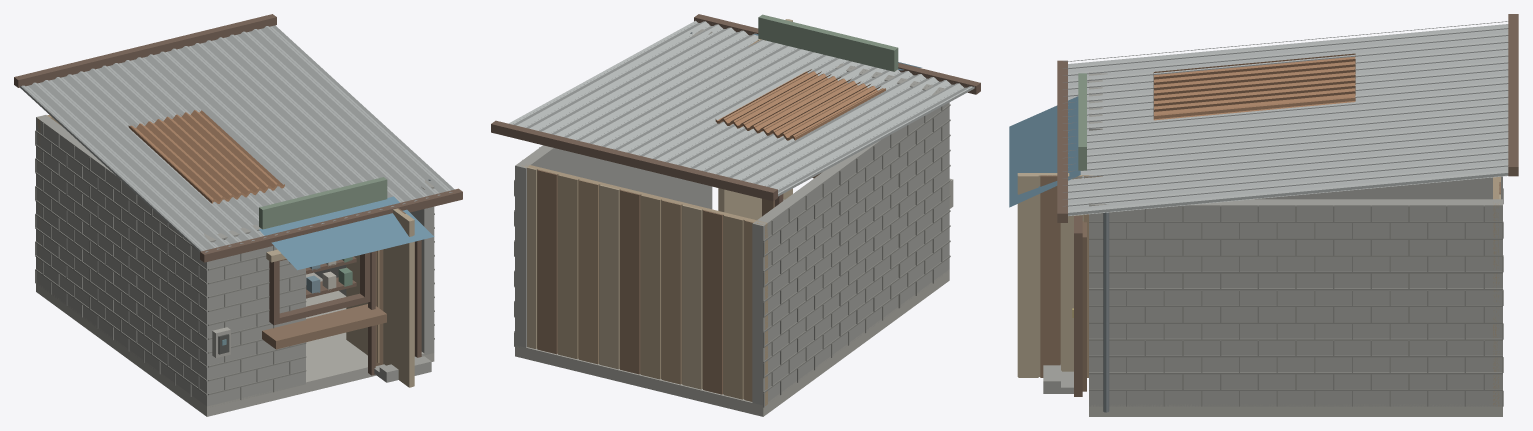
Rendered from SH04_Micro_SariSari_House.glb.
3 views of the same model, side by side, from view 1: azimuth 30°, elevation 25°; view 2: azimuth 150°, elevation 25°; view 3: azimuth 270°, elevation 25° (orthographic). The views are drawn at different scales.
Visible parts, largest first — view 1: 388_Main_roof_sheet, 002_Left_CHB_concrete, 303_Front_left_wall_concrete, 391_Main_roof_patch, 001_Concrete_floor, 386_Store_awning, 345_Front_right_wall_backing, 390_Main_roof_back_fascia, 387_SariSari_signboard, 389_Main_roof_front_fascia, 357_Store_counter, 146_Right_CHB_concrete (+17 smaller); view 2: 388_Main_roof_sheet, 002_Left_CHB_concrete, 146_Right_CHB_concrete, 391_Main_roof_patch, 001_Concrete_floor, 390_Main_roof_back_fascia, 292_Rear_wall_plank_02, 298_Rear_wall_plank_08, 294_Rear_wall_plank_04, 296_Rear_wall_plank_06, 300_Rear_wall_plank_10, 295_Rear_wall_plank_05 (+21 smaller); view 3: 146_Right_CHB_concrete, 388_Main_roof_sheet, 391_Main_roof_patch, 001_Concrete_floor, 386_Store_awning, 352_Front_right_wall_plank_07, 351_Front_right_wall_plank_06, 002_Left_CHB_concrete, 350_Front_right_wall_plank_05, 389_Main_roof_front_fascia, 390_Main_roof_back_fascia, 379_Residential_door_jamb_R (+17 smaller).
Boxes of the visible parts, bbox=[...] form: 388_Main_roof_sheet: bbox=[20, 25, 454, 252]; 002_Left_CHB_concrete: bbox=[36, 115, 216, 407]; 303_Front_left_wall_concrete: bbox=[208, 224, 305, 406]; 391_Main_roof_patch: bbox=[128, 110, 284, 203]; 001_Concrete_floor: bbox=[36, 272, 434, 416]; 386_Store_awning: bbox=[259, 196, 434, 270]; 345_Front_right_wall_backing: bbox=[346, 208, 413, 387]; 390_Main_roof_back_fascia: bbox=[14, 14, 276, 87]; 387_SariSari_signboard: bbox=[259, 177, 387, 229]; 389_Main_roof_front_fascia: bbox=[200, 188, 462, 262]; 357_Store_counter: bbox=[262, 304, 386, 349]; 146_Right_CHB_concrete: bbox=[314, 180, 434, 355]; 388_Main_roof_sheet: bbox=[509, 20, 974, 196]; 002_Left_CHB_concrete: bbox=[752, 87, 949, 406]; 146_Right_CHB_concrete: bbox=[515, 29, 712, 349]; 391_Main_roof_patch: bbox=[715, 69, 885, 140]; 001_Concrete_floor: bbox=[515, 269, 949, 416]; 390_Main_roof_back_fascia: bbox=[491, 120, 777, 201]; 292_Rear_wall_plank_02: bbox=[723, 215, 743, 399]; 298_Rear_wall_plank_08: bbox=[599, 184, 619, 369]; 294_Rear_wall_plank_04: bbox=[682, 205, 702, 389]; 296_Rear_wall_plank_06: bbox=[640, 195, 660, 379]; 300_Rear_wall_plank_10: bbox=[558, 174, 578, 359]; 295_Rear_wall_plank_05: bbox=[661, 200, 681, 384]; 146_Right_CHB_concrete: bbox=[1089, 199, 1502, 406]; 388_Main_roof_sheet: bbox=[1063, 21, 1508, 215]; 391_Main_roof_patch: bbox=[1153, 53, 1355, 120]; 001_Concrete_floor: bbox=[1089, 404, 1502, 416]; 386_Store_awning: bbox=[1009, 96, 1080, 207]; 352_Front_right_wall_plank_07: bbox=[1018, 175, 1038, 377]; 351_Front_right_wall_plank_06: bbox=[1040, 175, 1060, 377]; 002_Left_CHB_concrete: bbox=[1089, 72, 1502, 199]; 350_Front_right_wall_plank_05: bbox=[1062, 175, 1082, 371]; 389_Main_roof_front_fascia: bbox=[1057, 60, 1067, 222]; 390_Main_roof_back_fascia: bbox=[1508, 14, 1518, 176]; 379_Residential_door_jamb_R: bbox=[1074, 236, 1082, 396].
Size of the model in its own units: 4.15 by 3.28 by 5.84.
